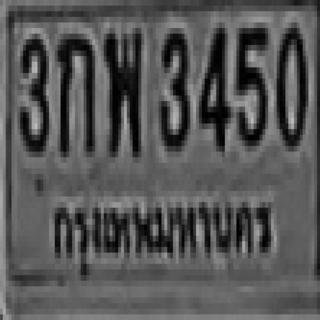A01: (55, 28, 92, 152)
A30: (102, 25, 140, 149)
N00: (274, 20, 306, 143)
N03: (17, 34, 46, 152), (159, 28, 187, 146)
N04: (198, 23, 226, 146)
N05: (233, 20, 265, 143)
P04: (36, 178, 286, 285)
